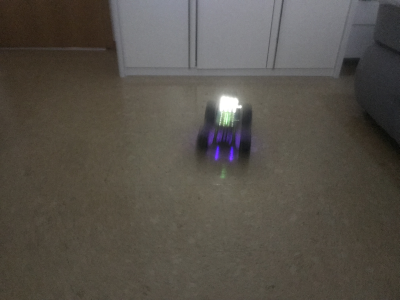remote control car: (196, 94, 252, 158)
